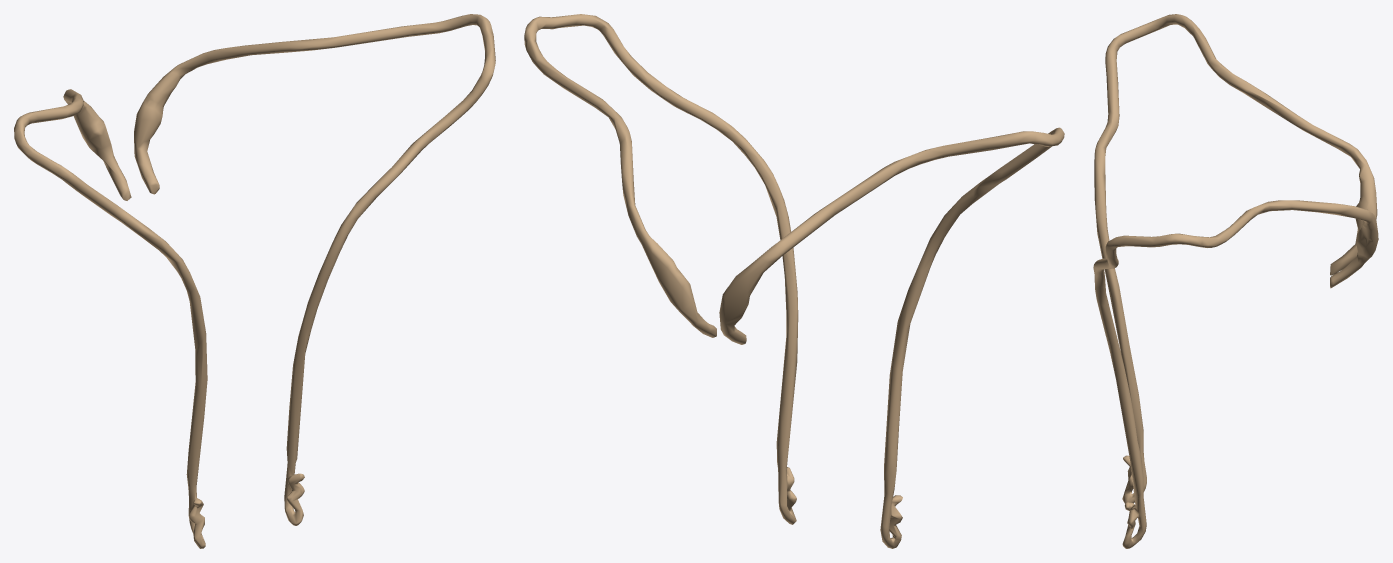
File: deferent-ducts.glb
3 renders of one model, left to right at view 1: azimuth 30°, elevation 25°; view 2: azimuth 150°, elevation 25°; view 3: azimuth 270°, elevation 25°, orthographic. The views are drawn at different scales.
Visible parts, largest first — view 1: FMA19236, FMA19235; view 2: FMA19236, FMA19235; view 3: FMA19235, FMA19236.
Part boxes in pixels (bbox=[...]): FMA19236: bbox=[134, 14, 495, 525]; FMA19235: bbox=[14, 89, 207, 548]; FMA19236: bbox=[524, 14, 798, 524]; FMA19235: bbox=[719, 127, 1064, 548]; FMA19235: bbox=[1094, 14, 1377, 503]; FMA19236: bbox=[1093, 200, 1378, 548].
Size of the model in its own units: 1.87 by 1.66 by 1.02.
